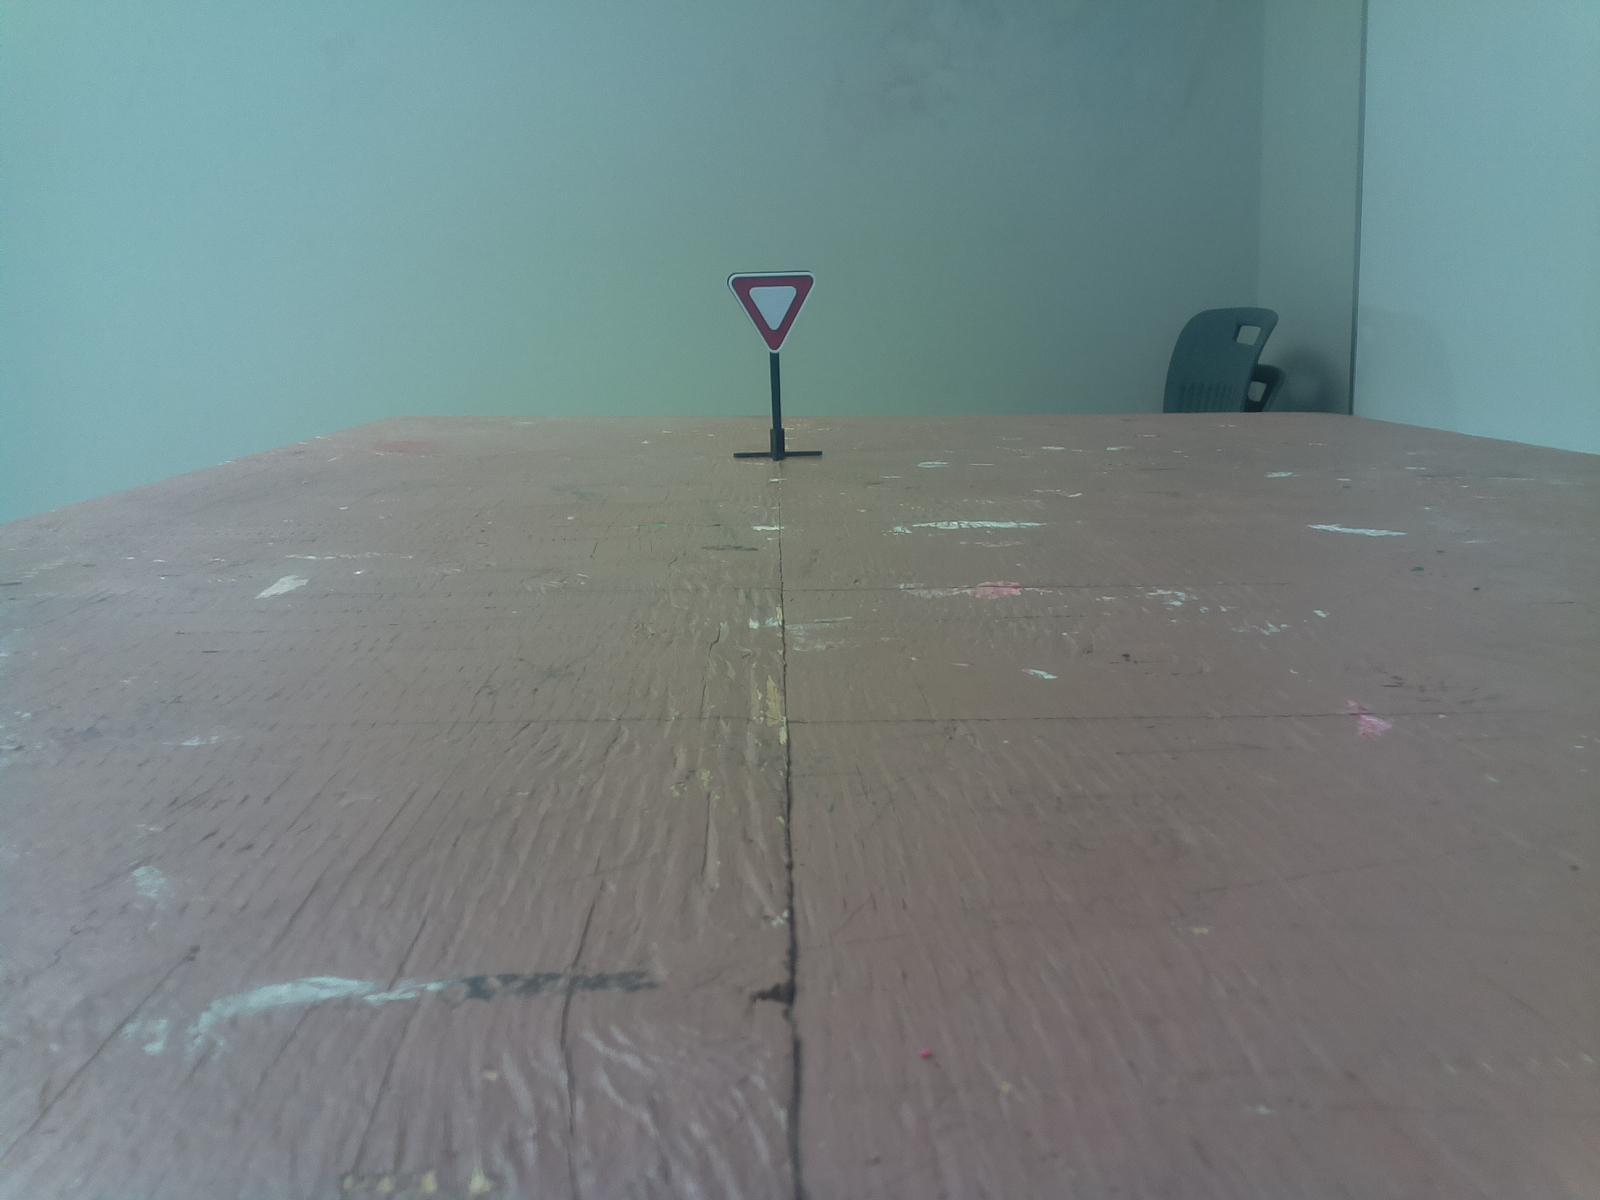sign_yield: (718, 267, 828, 361)
